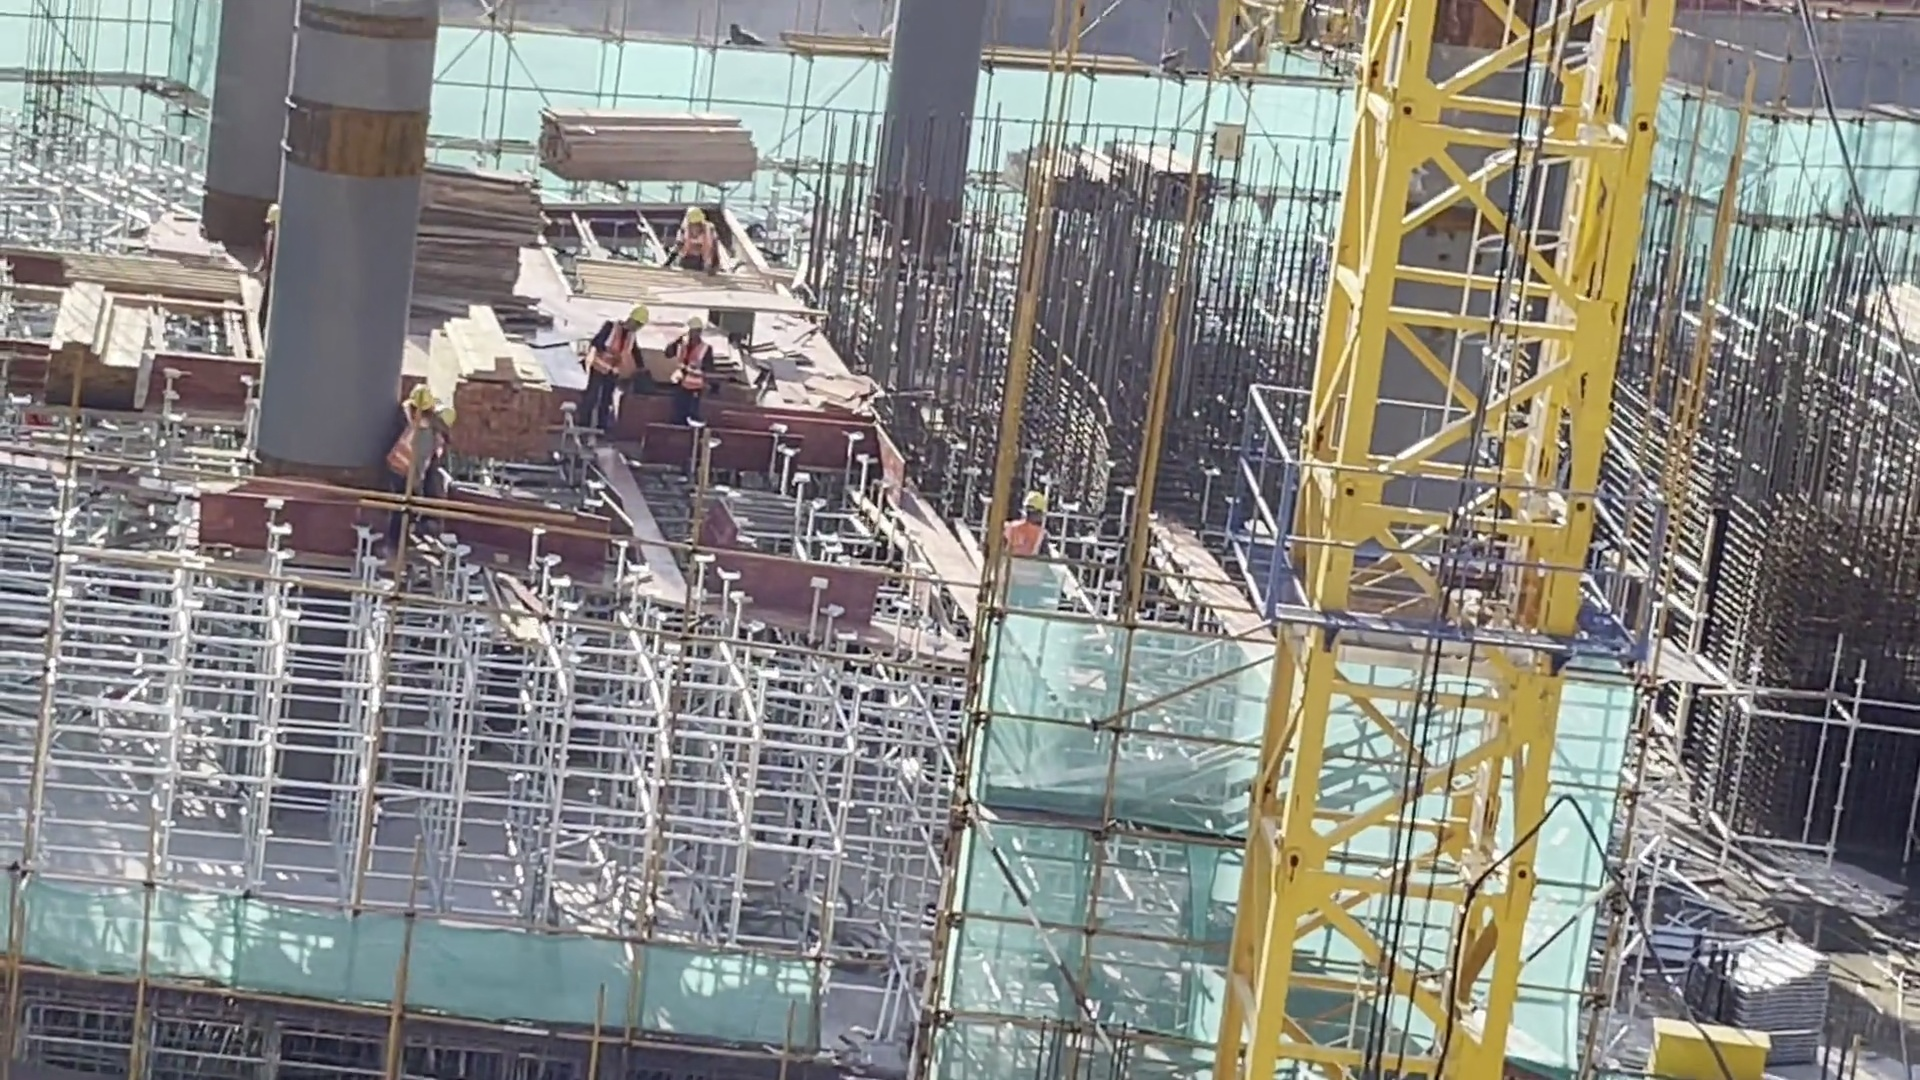cutter: (652, 287, 825, 346)
ebox: (1644, 1015, 1777, 1080)
helmet: (685, 206, 708, 234), (1023, 487, 1046, 514), (413, 386, 436, 411), (436, 401, 458, 429), (628, 306, 655, 325), (683, 315, 707, 331)
person: (578, 301, 653, 442), (387, 402, 459, 488), (672, 315, 714, 433), (665, 201, 720, 278), (1003, 494, 1051, 562), (401, 383, 432, 414)
scaffold: (1710, 928, 1827, 1061)
vest: (590, 330, 634, 386), (673, 337, 711, 397), (1003, 521, 1043, 560)
wood: (397, 163, 549, 321), (427, 300, 555, 473), (538, 102, 763, 191), (37, 280, 163, 423)
